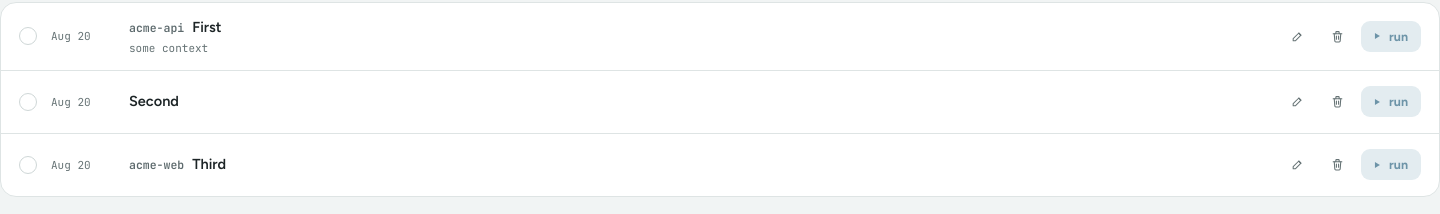
BacklogView Run › posts the item and flashes "✓ sent"
Click the button with test id "backlog-play-btn" in the row of "First".
click(1391, 36)  # box top-left (1361, 21), bottom-right (1421, 52)
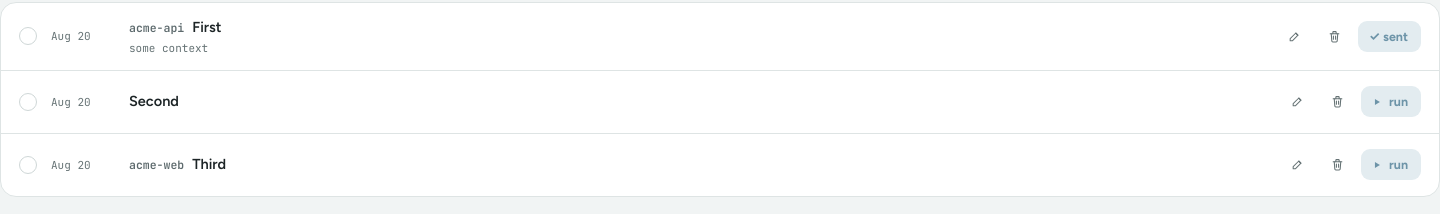
expect the button with test id "backlog-play-btn" reads "✓ sent": met, box top-left (1358, 21), bottom-right (1421, 52)
